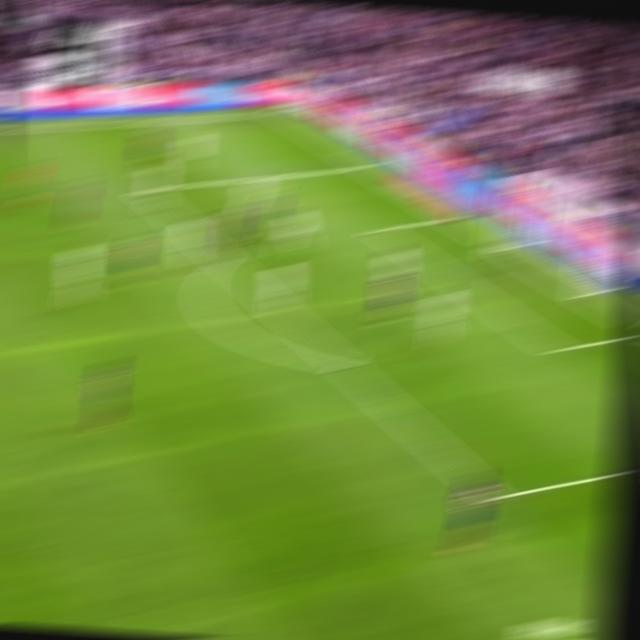bigarea_bottom_inner: (480, 484, 508, 511)
bigarea_top_outter: (355, 158, 378, 172)
bottom_arc_area_intersection: (330, 354, 356, 374)
corner: (269, 107, 294, 117)
smallarea_bottom_inner: (544, 338, 569, 359)
smallarea_top_inner: (366, 221, 391, 237)
top_arc_area_intersection: (212, 252, 237, 269)
